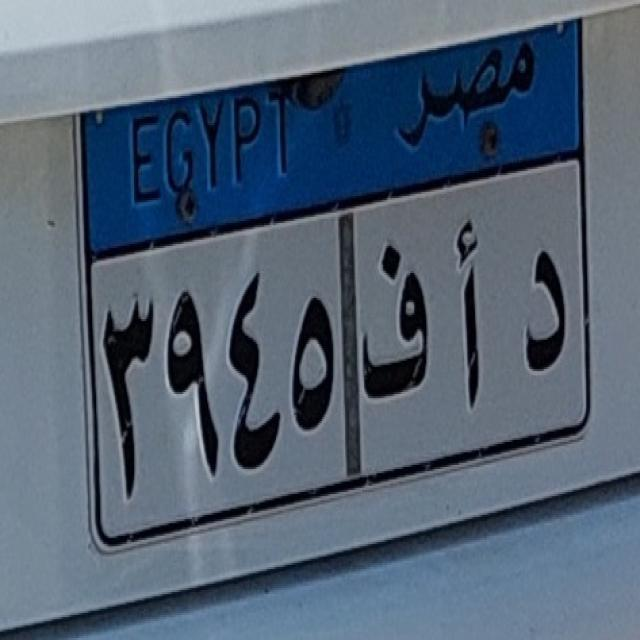3: (88, 277, 164, 518)
4: (224, 263, 292, 484)
5: (282, 282, 342, 450)
9: (162, 277, 232, 492)
F: (356, 232, 438, 417)
alef: (442, 208, 505, 432)
daal: (513, 231, 578, 395)
